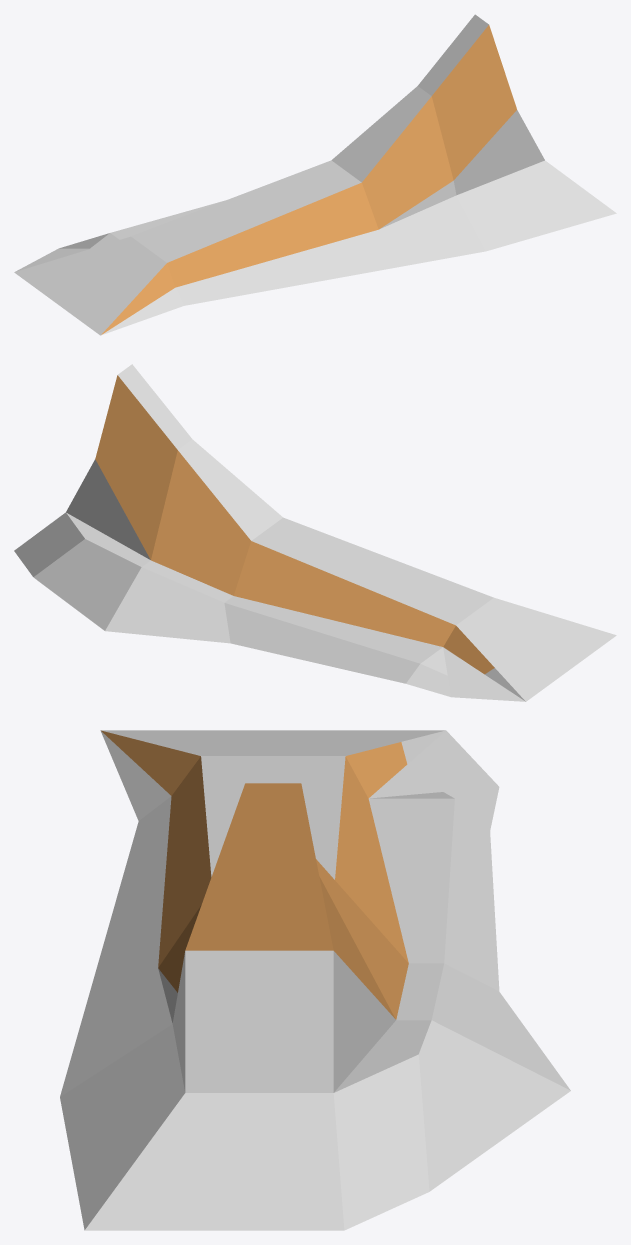
Rendered from Ground_ramp.fbx.
The picture shows the model from 3 angles, top to bottom: view 1: azimuth 30°, elevation 25°; view 2: azimuth 150°, elevation 25°; view 3: azimuth 270°, elevation 25°; orthographic projection. The views are drawn at different scales.
Parts seen in each view (by area): view 1: Ground_ramp; view 2: Ground_ramp; view 3: Ground_ramp.
Part boxes in pixels (left/top/right/bottom): Ground_ramp: left=14, top=14, right=616, bottom=335; Ground_ramp: left=14, top=364, right=616, bottom=701; Ground_ramp: left=60, top=730, right=570, bottom=1230.
Size of the model in its own units: 5893 by 1987 by 2545.
